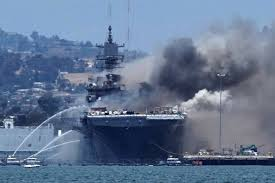tau_muctieu: (79, 36, 185, 162)
